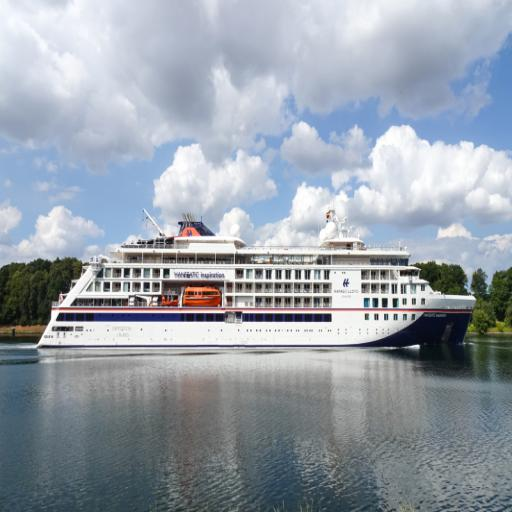cruises: (35, 208, 481, 358)
